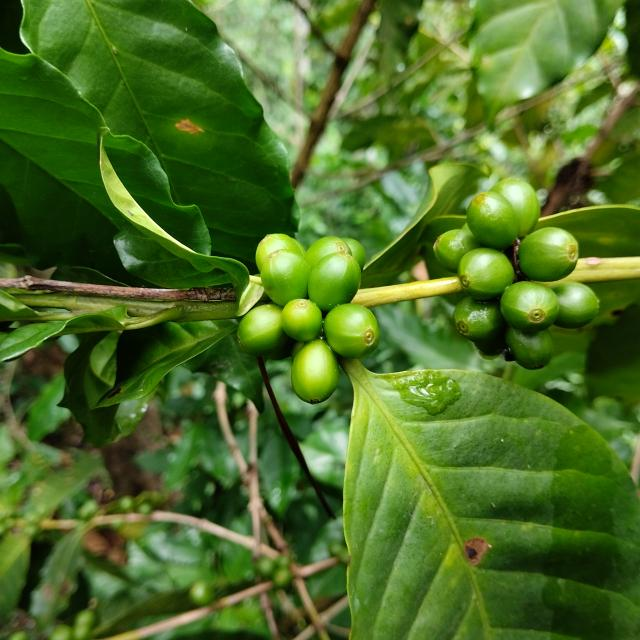green: (256, 233, 310, 306), (519, 227, 580, 281), (323, 303, 380, 359), (308, 252, 361, 312), (291, 339, 339, 404), (467, 191, 519, 251), (458, 247, 515, 300), (501, 281, 560, 332), (491, 178, 541, 238), (260, 249, 311, 307), (237, 304, 289, 357), (453, 297, 507, 342), (553, 282, 601, 329), (506, 326, 554, 370), (434, 229, 482, 272), (281, 299, 322, 342), (306, 236, 352, 268)
